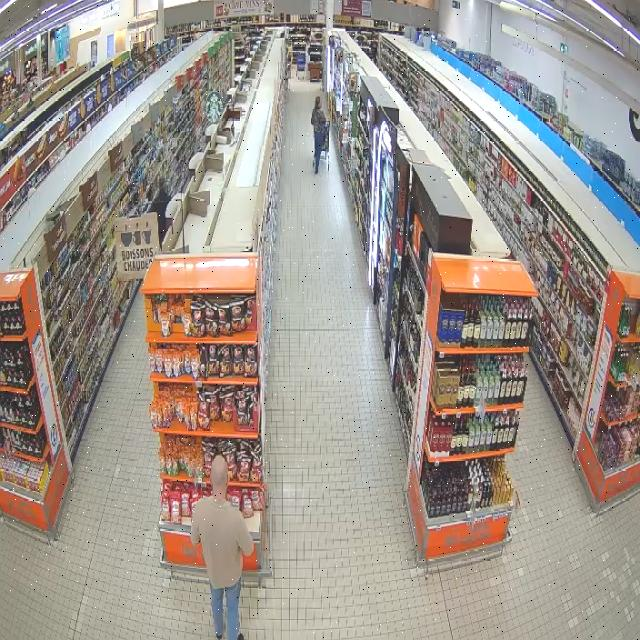person: (190, 456, 253, 639), (312, 96, 325, 173)
